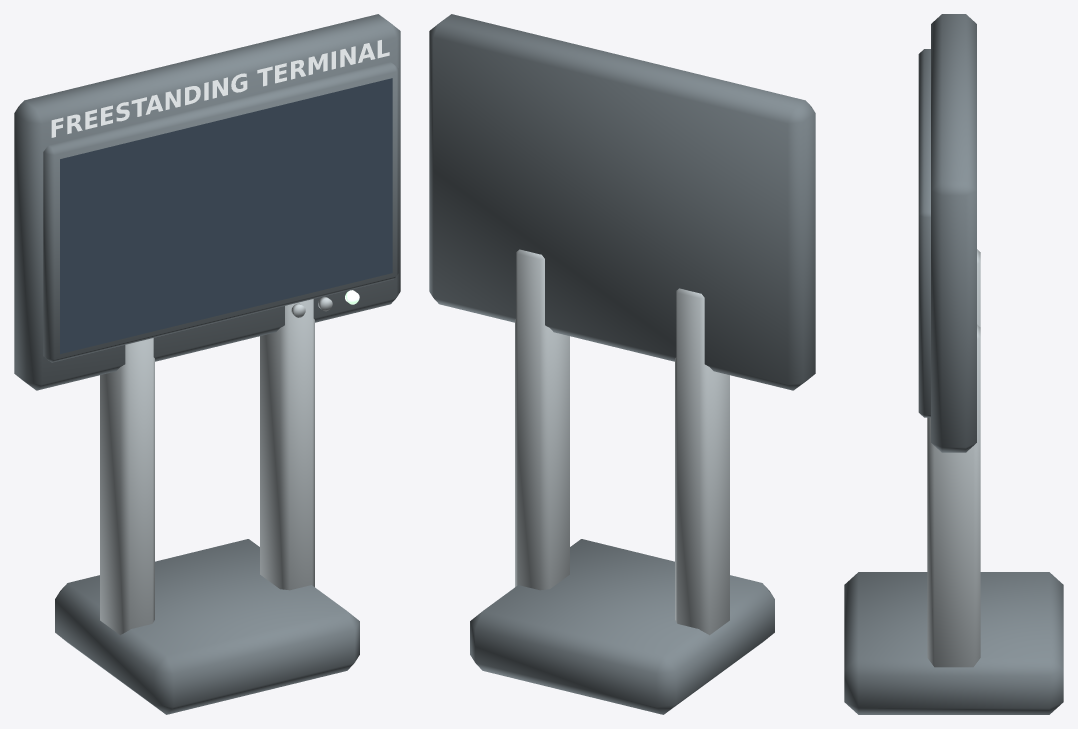
Rendered from freestanding_terminal_standard.glb.
The picture shows the model from 3 angles, left to right: view 1: azimuth 30°, elevation 25°; view 2: azimuth 150°, elevation 25°; view 3: azimuth 270°, elevation 25°; orthographic projection. The views are drawn at different scales.
Visible parts, largest first — view 1: LiveViewSurface_glass, DisplayHousing_frame, Base_frame, Support_steel, LiveViewSurfaceFrame_frame, TypeLabel_white; view 2: DisplayHousing_frame, Support_steel, Base_frame; view 3: Base_frame, DisplayHousing_frame, Support_steel, LiveViewSurfaceFrame_frame.
Part boxes in pixels (x1,y1,x2,y2): LiveViewSurface_glass: (60,78,392,353); DisplayHousing_frame: (14,14,400,390); Base_frame: (55,539,359,714); Support_steel: (100,299,314,635); LiveViewSurfaceFrame_frame: (43,62,398,362); TypeLabel_white: (51,40,389,137); DisplayHousing_frame: (429,14,815,390); Support_steel: (515,249,729,635); Base_frame: (470,539,774,714); Base_frame: (844,572,1063,714); DisplayHousing_frame: (931,14,976,452); Support_steel: (927,249,980,667); LiveViewSurfaceFrame_frame: (918,49,930,417).
Bounding box in the file's own units: 1.18 × 1.79 × 0.62.
